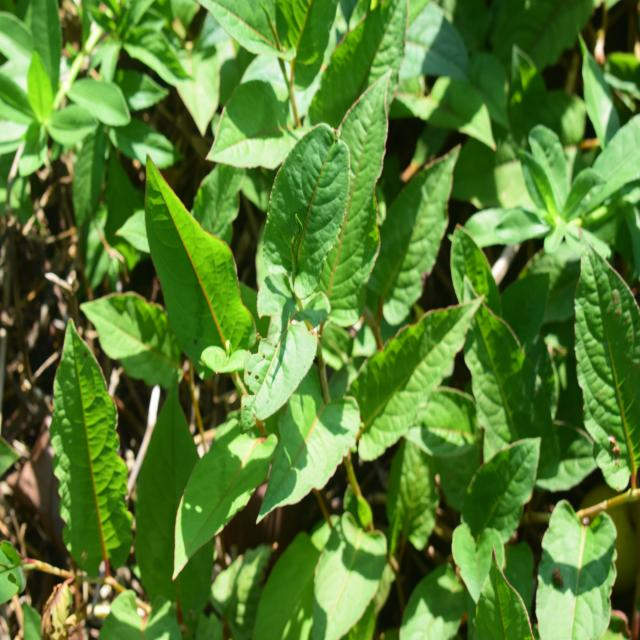Chinese_knotweed: (242, 60, 438, 482), (119, 160, 270, 574)
